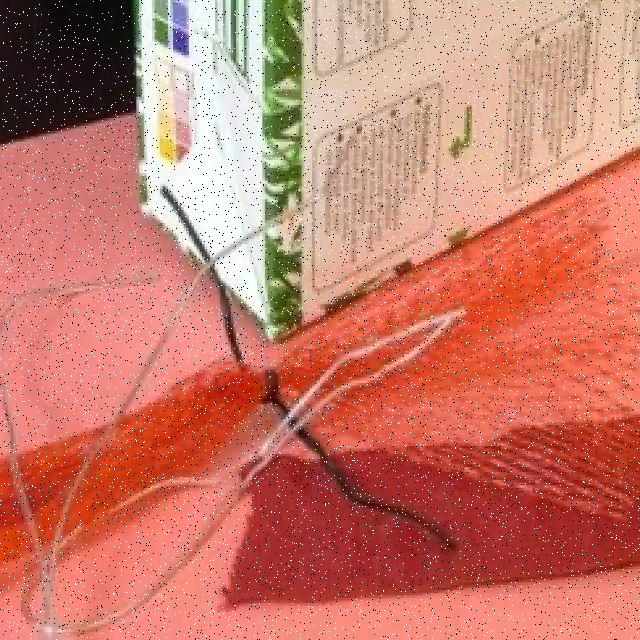box: (115, 0, 640, 336)
